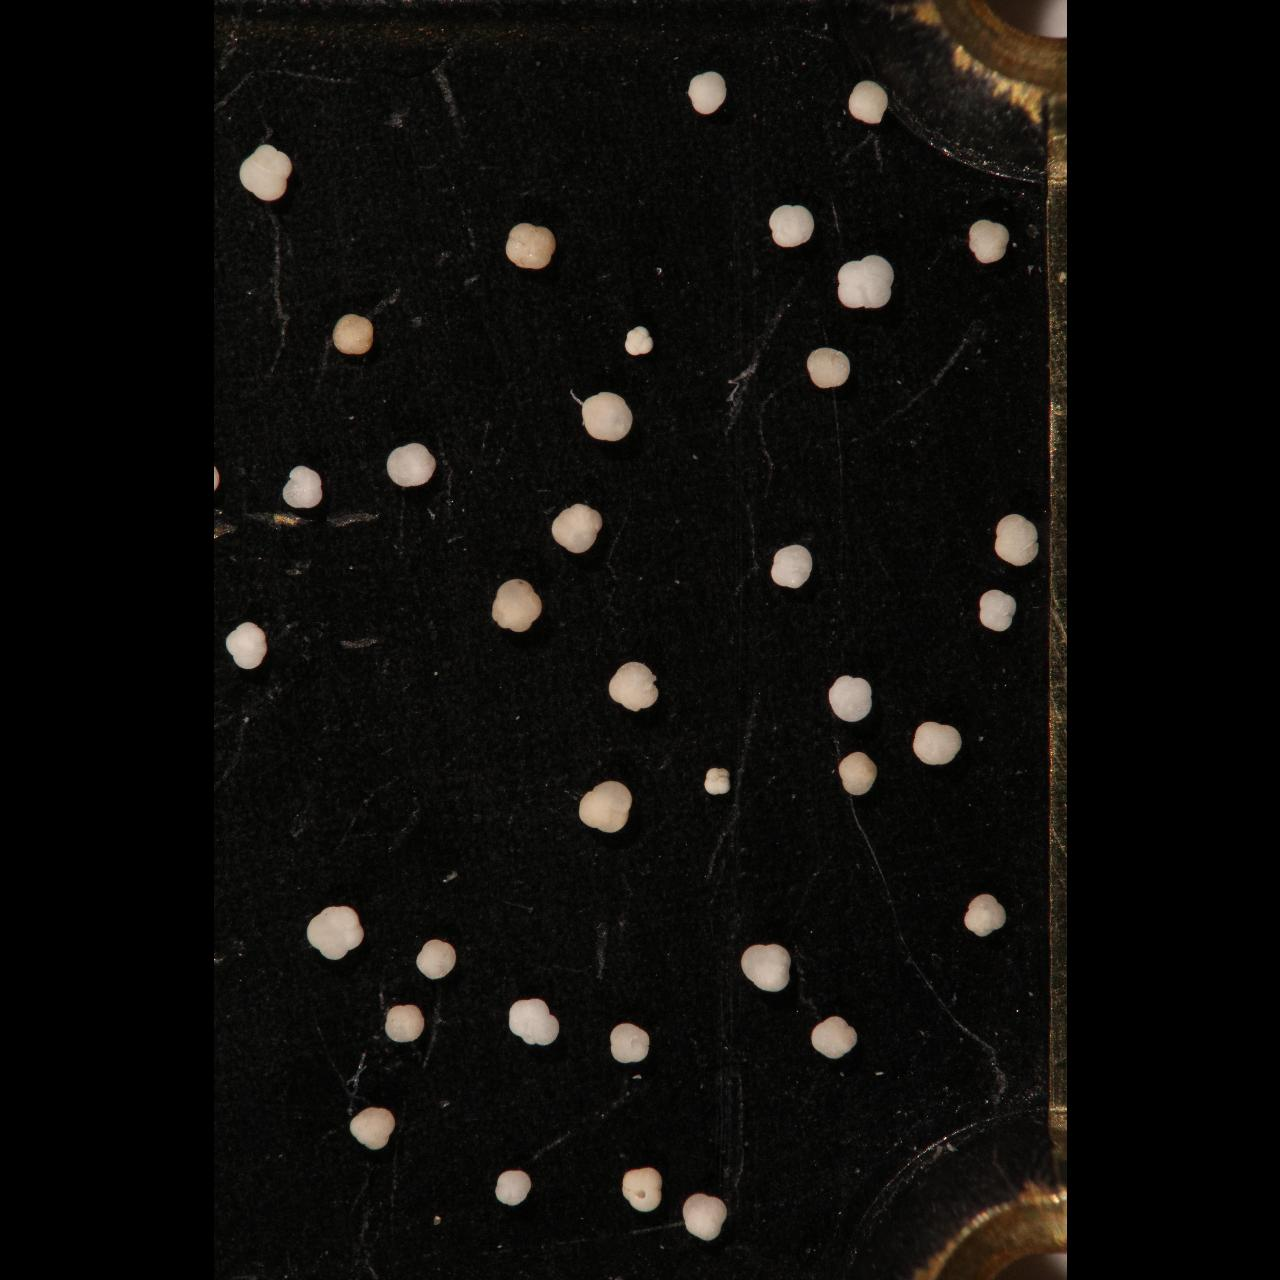planktic: (304, 904, 367, 962), (837, 251, 896, 312), (576, 777, 633, 835), (238, 143, 294, 202), (605, 659, 661, 714), (738, 940, 794, 996), (489, 577, 543, 633), (579, 392, 635, 443), (993, 511, 1043, 568), (549, 503, 602, 556), (508, 996, 561, 1049), (383, 441, 440, 490), (505, 220, 557, 272), (809, 1014, 862, 1064), (680, 1191, 730, 1242), (825, 674, 874, 727), (911, 717, 964, 767), (769, 200, 817, 252), (845, 75, 893, 127), (346, 1107, 396, 1155), (224, 618, 268, 672), (768, 543, 816, 592), (804, 345, 853, 392), (620, 1164, 665, 1216), (961, 892, 1008, 940), (966, 216, 1010, 266), (331, 311, 376, 359), (608, 1020, 654, 1068), (837, 750, 880, 798), (688, 68, 730, 117), (415, 937, 459, 981), (280, 465, 324, 511), (383, 1002, 425, 1046), (978, 587, 1017, 633), (493, 1167, 533, 1208), (624, 324, 654, 358), (702, 765, 731, 798)
